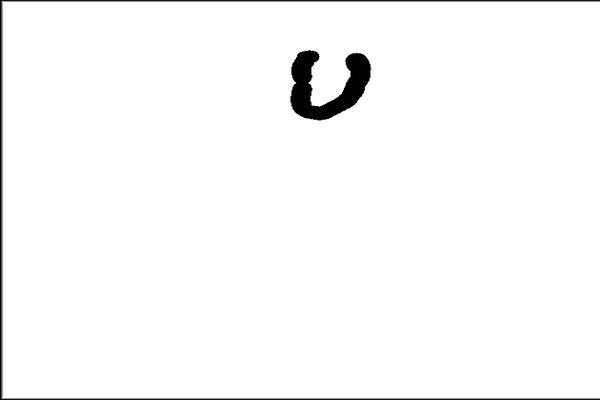U: (281, 46, 371, 125)
